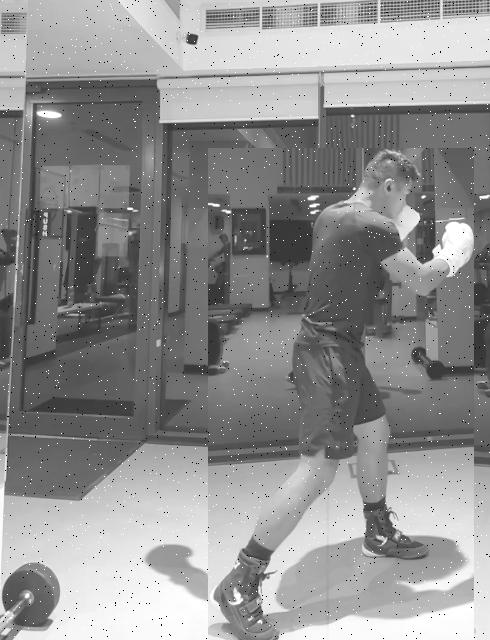punch: (208, 148, 474, 640)
